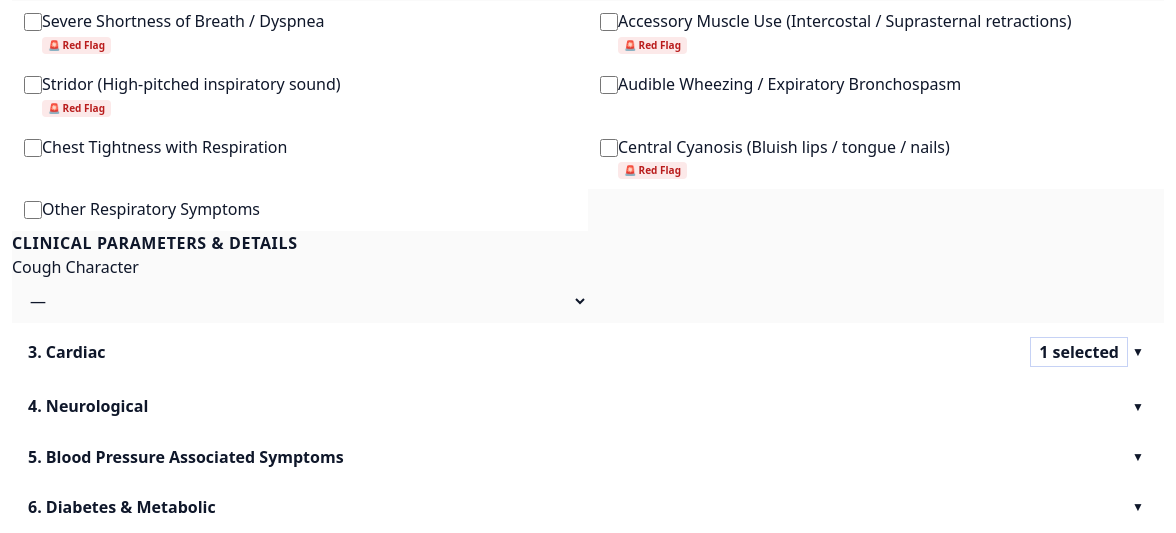
it: Clinical Symptoms Checklist Module (Step 2) › Component Rendering & Interactive Accordion Behaviors › preserves symptom selections across accordion toggles
The width and height of the screenshot is (1176, 533).
(page scrolled)
Open Cardiac accordion
Click the button "3. Cardiac 1 selected ▼": (67, 352) [12,323,1164,382]
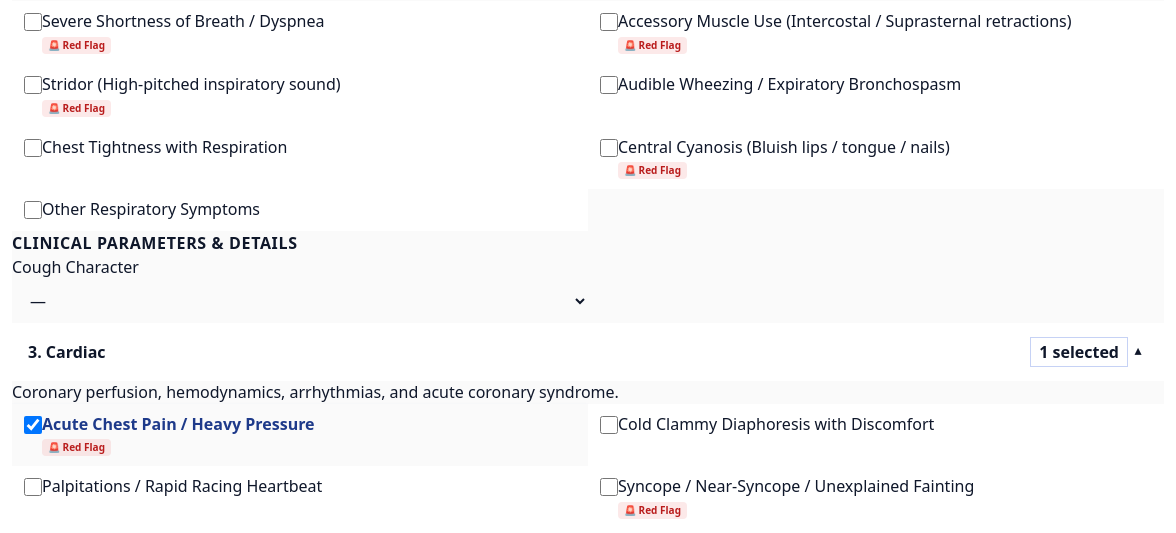
Now the checkbox labelled "Acute Chest Pain / Heavy Pressure 🚨 Red Flag" is checked, box [24,416,42,434]
Close and reopen
Click the button "3. Cardiac 1 selected ▼": (67, 352) [12,323,1164,382]
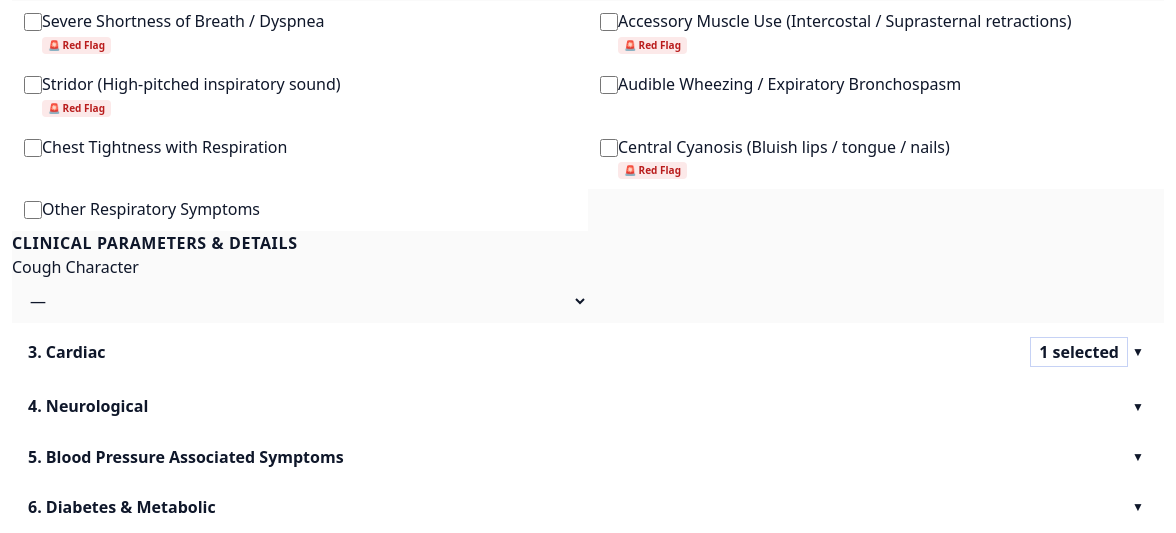
Click the button "3. Cardiac 1 selected ▼": (67, 352) [12,323,1164,382]
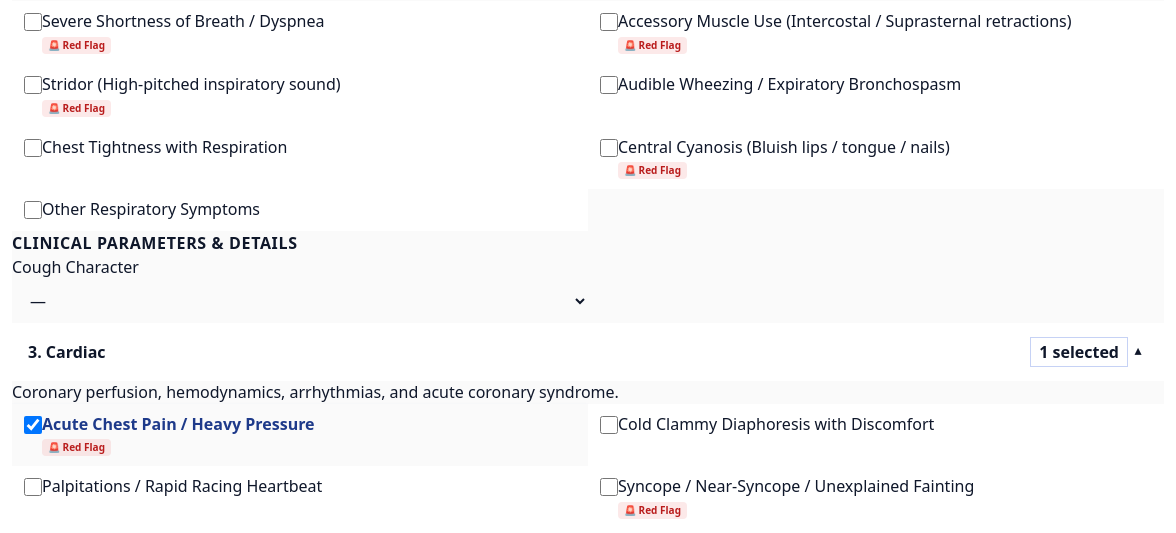
Now the checkbox labelled "Acute Chest Pain / Heavy Pressure 🚨 Red Flag" is checked, box [24,416,42,434]
